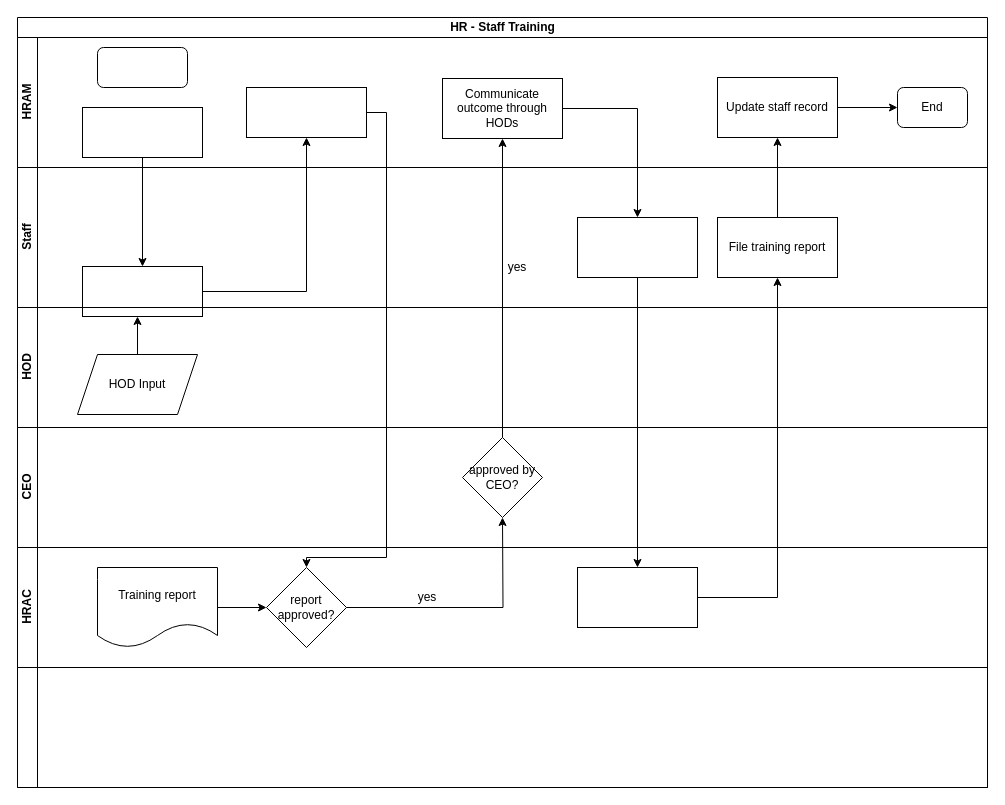
This 1005x805 diagram has some shape labels left out. The centre of each missing label's shape, as x and y in pixels:
"Compile a training report" goes at (306,112).
"Finance/Procument" goes at (502,727).
"Initiate training needs assessment" goes at (142,132).
"Make payments" goes at (637,597).
"Requisition for training facilitation" goes at (637,247).
"Staff and HODs compile the TNA" goes at (142,291).
"Start" goes at (142,67).
